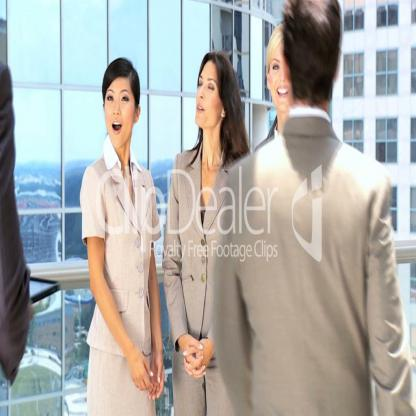face: (269, 43, 303, 108), (105, 78, 135, 149), (197, 65, 226, 128)
